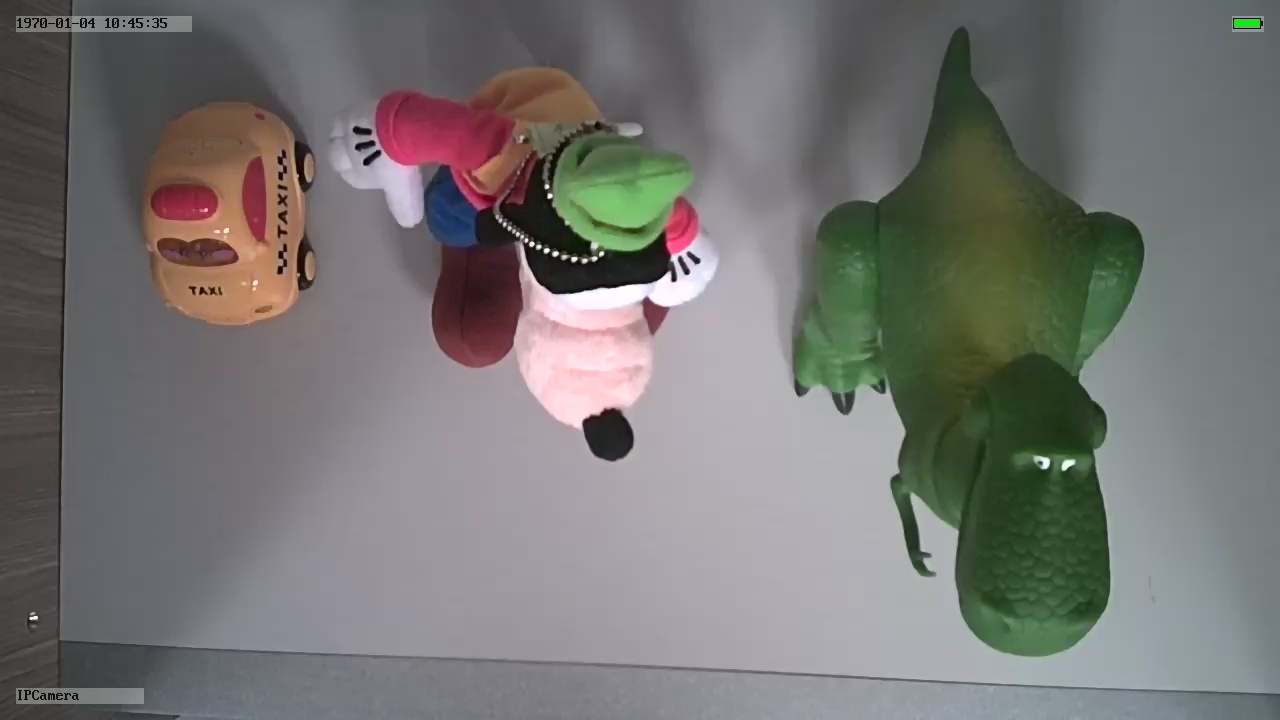car: (137, 101, 318, 328)
goofy: (331, 63, 721, 460)
rex: (792, 91, 1143, 659)
